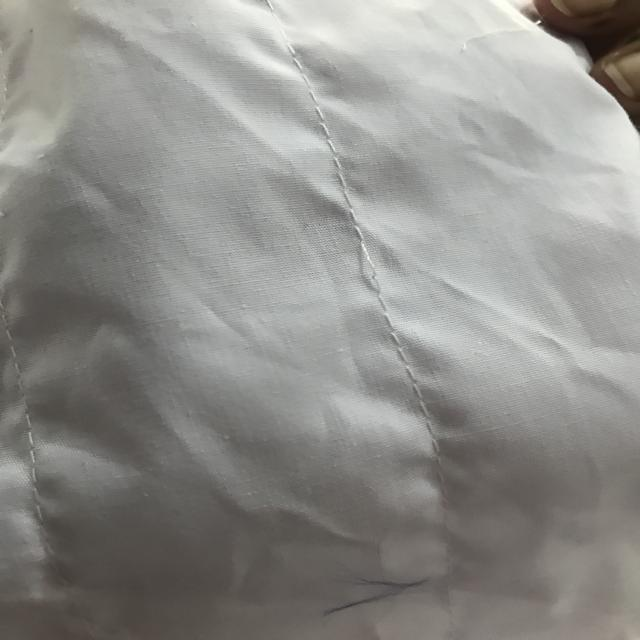skip: (341, 233, 399, 300)
